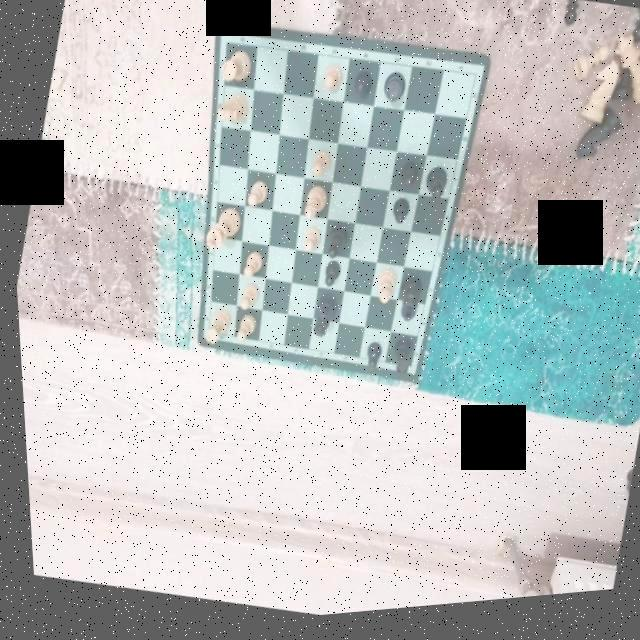chess-table-corners: (468, 74, 482, 90), (220, 40, 234, 56), (400, 366, 411, 381)
